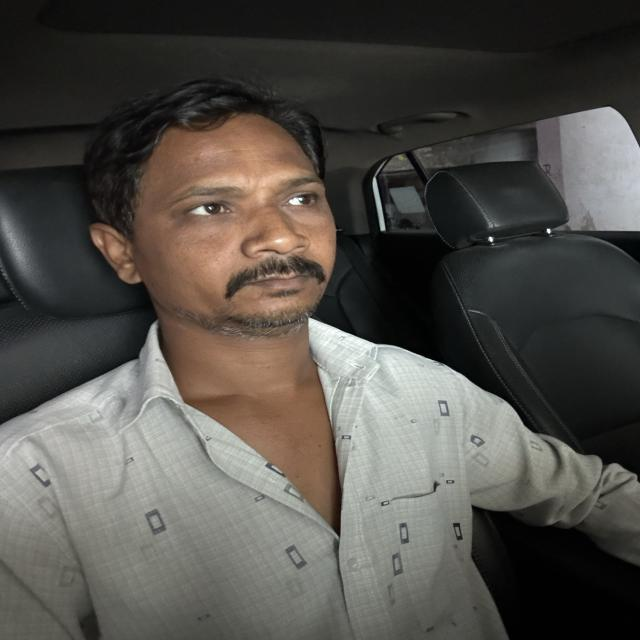no-seatbelt: (0, 399, 609, 640)
